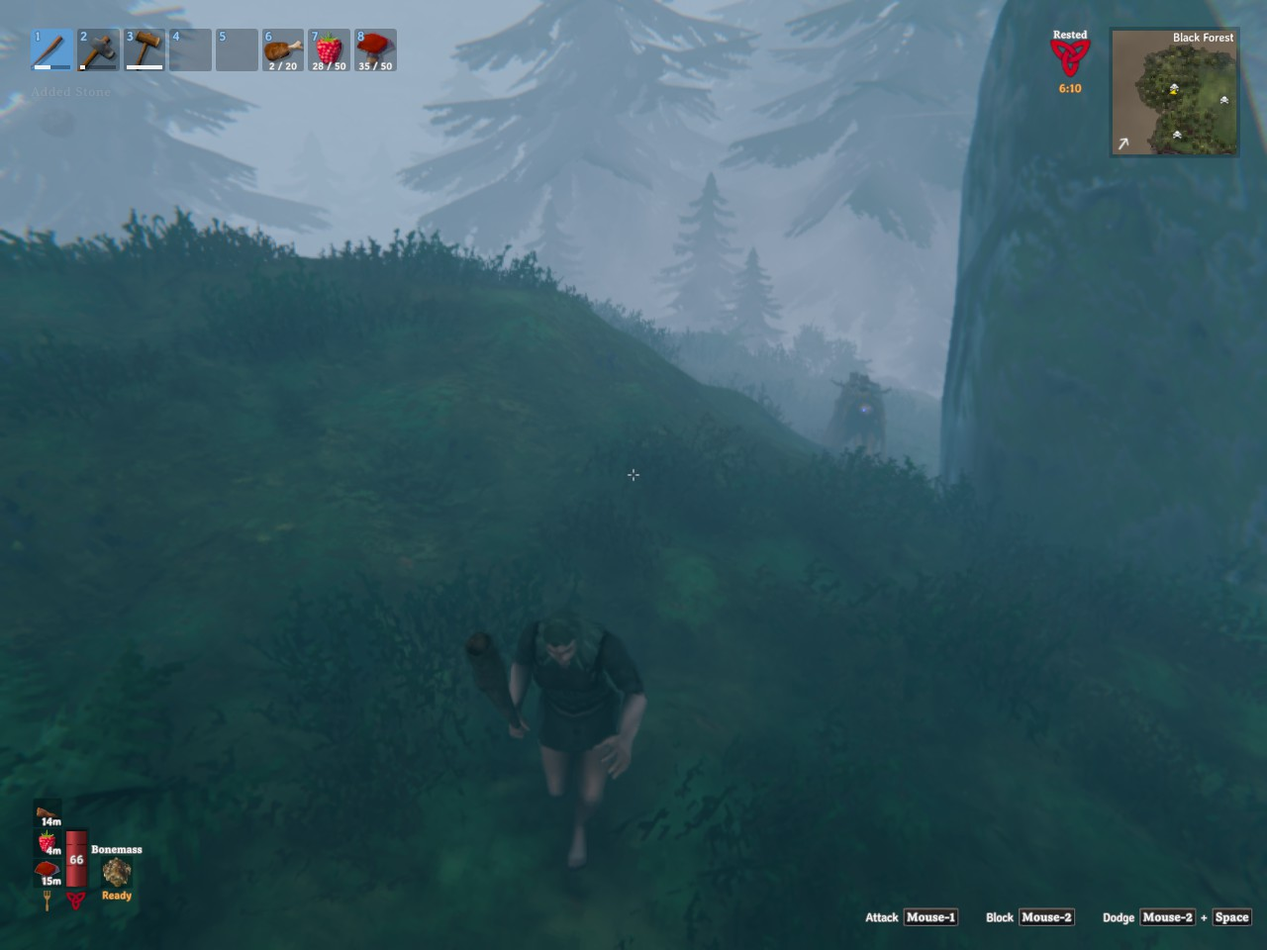Greydwarf: (825, 372, 884, 453)
